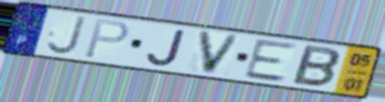B: (289, 43, 343, 90)
E: (242, 38, 301, 84)
J: (44, 14, 89, 56), (145, 28, 189, 69)
P: (81, 17, 132, 60)
V: (196, 28, 243, 77)
